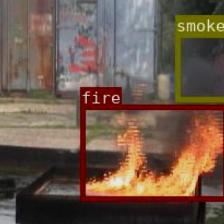fire: (79, 103, 224, 200)
smoke: (174, 32, 224, 101)
